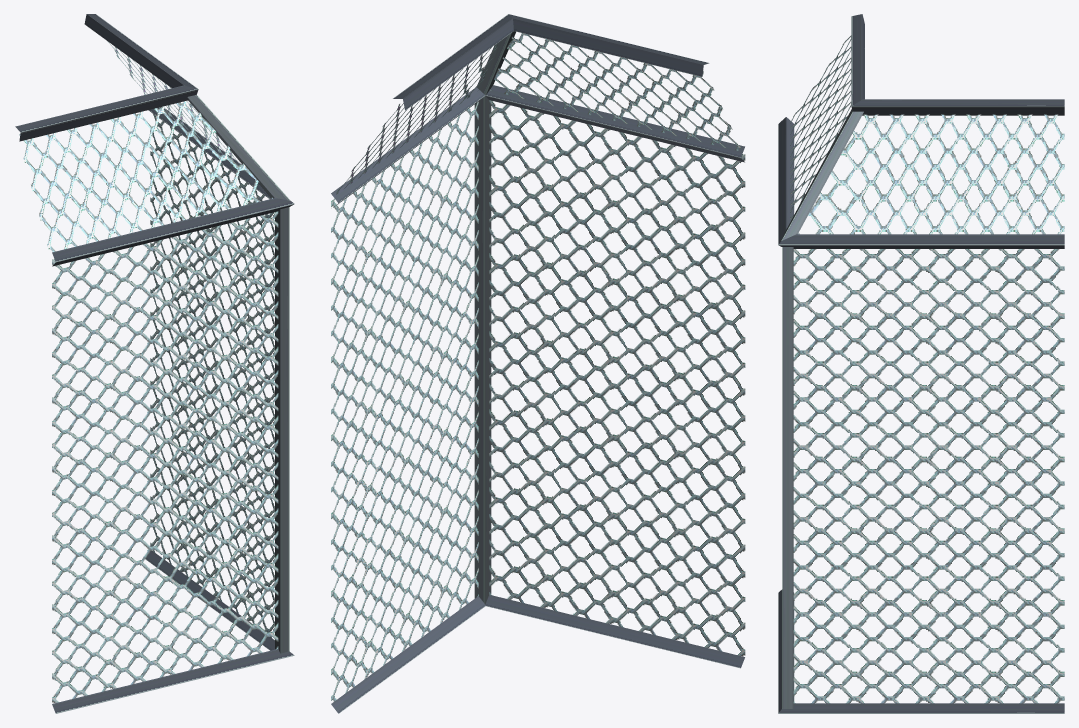
Rendered from a_SEwirefence05.glb.
3 views of the same model, side by side, from view 1: azimuth 30°, elevation 25°; view 2: azimuth 150°, elevation 25°; view 3: azimuth 270°, elevation 25° (orthographic). The views are drawn at different scales.
Parts seen in each view (by area): view 1: a_SEwirefence05; view 2: a_SEwirefence05; view 3: a_SEwirefence05.
Part boxes in pixels (bbox=[...]): a_SEwirefence05: bbox=[15, 14, 294, 713]; a_SEwirefence05: bbox=[331, 14, 745, 713]; a_SEwirefence05: bbox=[778, 14, 1064, 713].
Size of the model in its own units: 1 by 2.23 by 1.
Materials: 2 (2 with a texture image).
